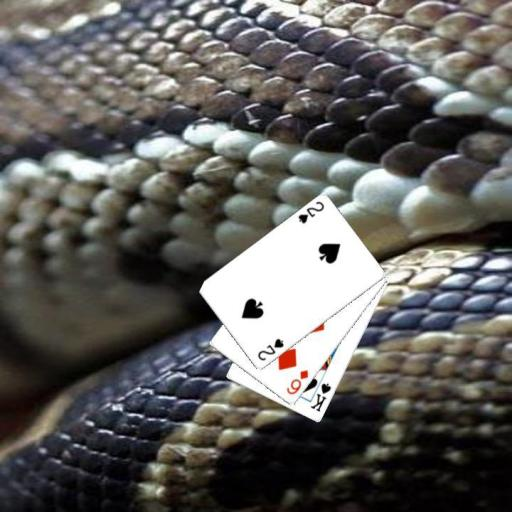2S: (295, 199, 326, 226), (255, 336, 285, 363)
6D: (283, 367, 310, 397)
KS: (307, 380, 333, 414)
